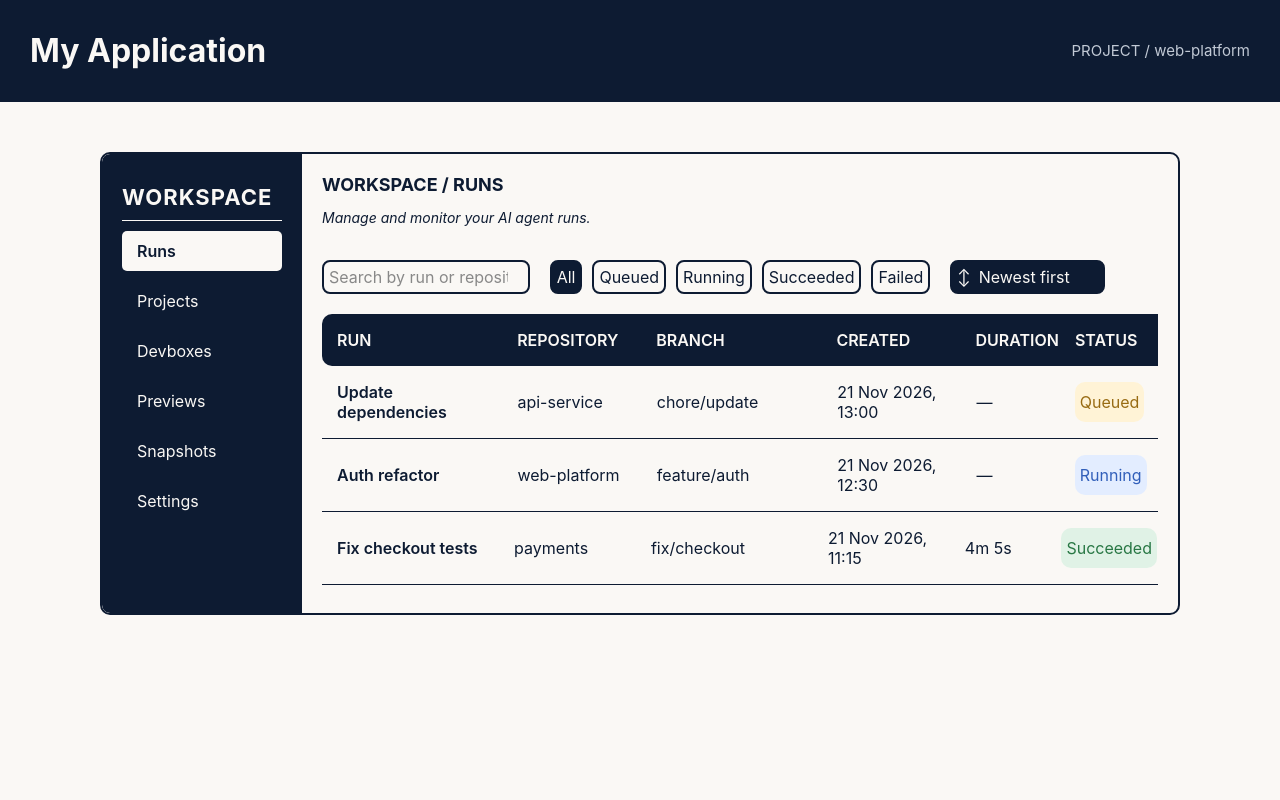
Scenario: App › opens run details when a card is clicked
Check: the heading "Auth refactor" is shown, box [337,465,439,485]
Click the button "Auth refactor". click: click(747, 475)
box: [322,439,1172,512]
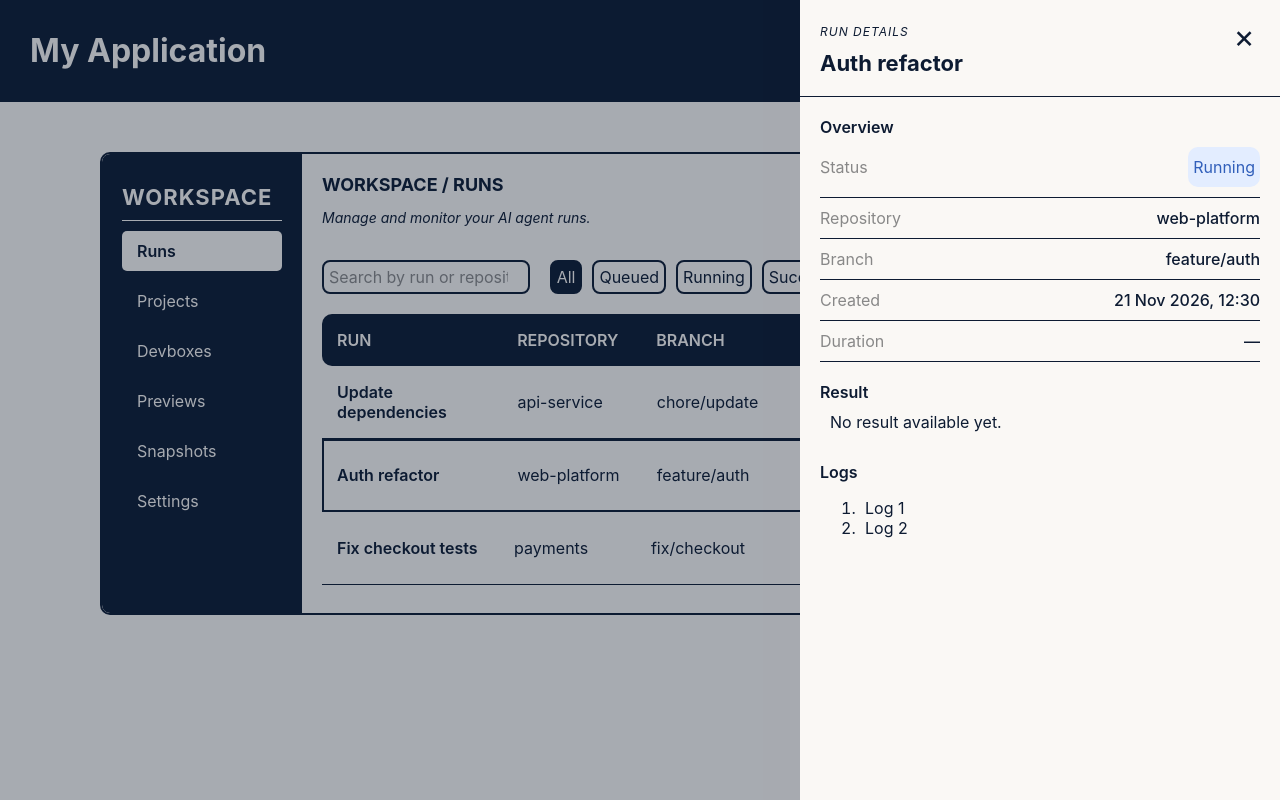
Check: the heading "Logs" is shown, box [820,462,858,482]
Check: the list item "Log 1" is shown, box [865,498,904,518]
Check: the list item "Log 2" is shown, box [865,518,908,538]
